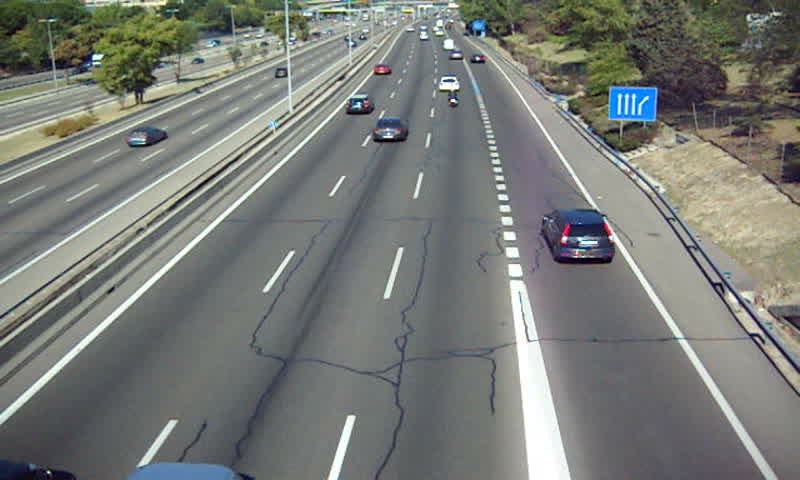car: (540, 208, 616, 263), (372, 116, 410, 142), (346, 95, 374, 117), (436, 76, 461, 92), (373, 64, 392, 76)
motorcycle: (445, 88, 460, 108)
